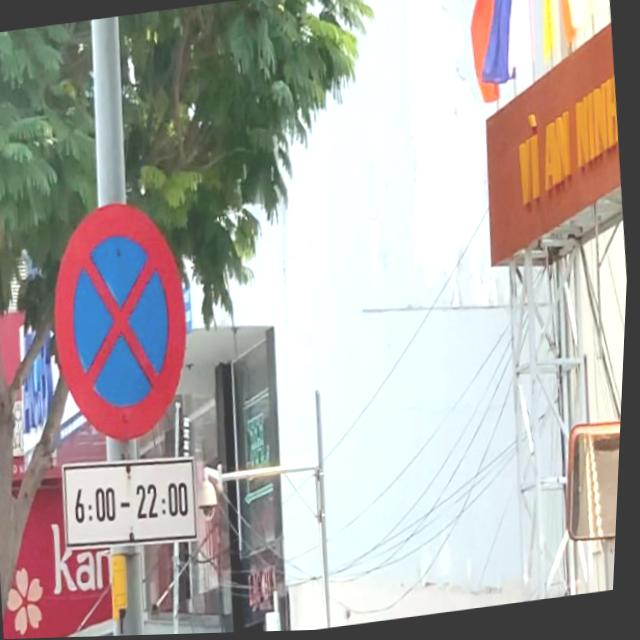Cam dung xe va do xe: (40, 194, 205, 450)
